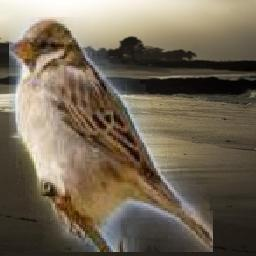Sparrow: (9, 18, 213, 253)
